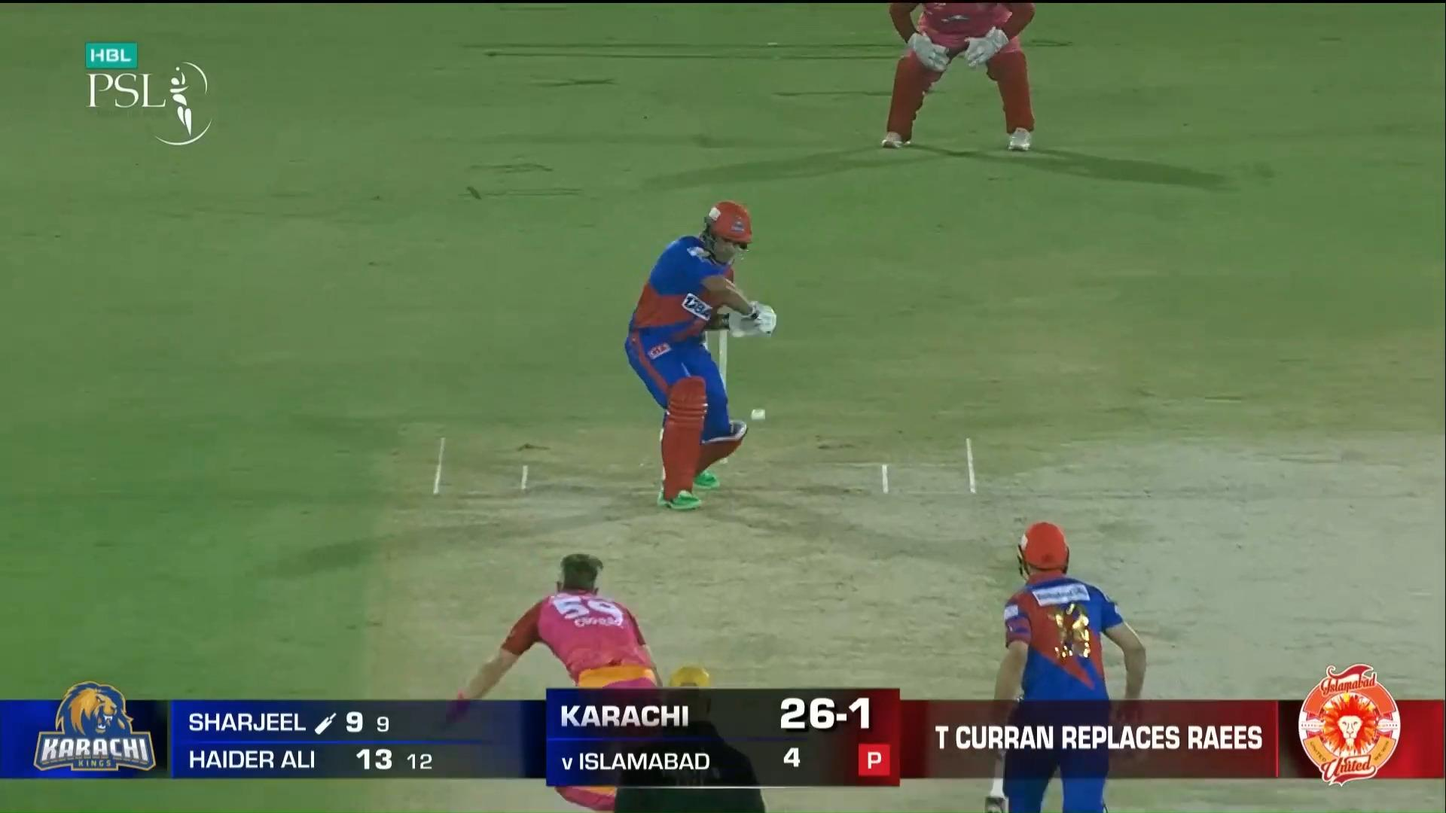batsman: (625, 198, 777, 513)
